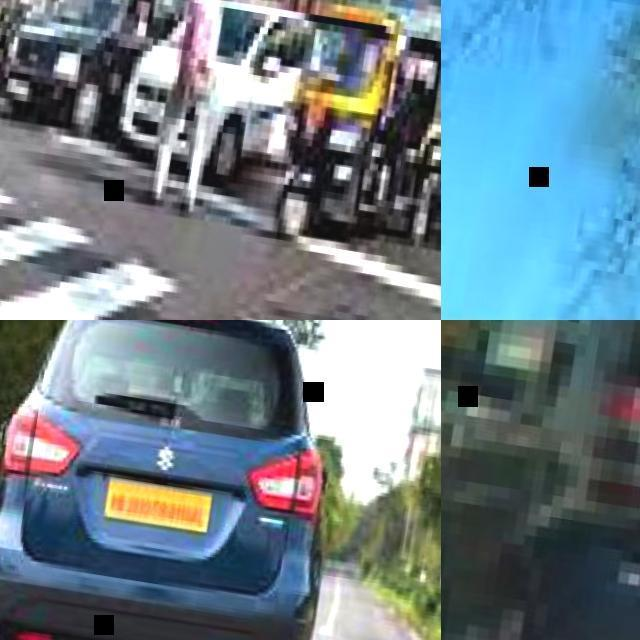car: (0, 255, 329, 639)
